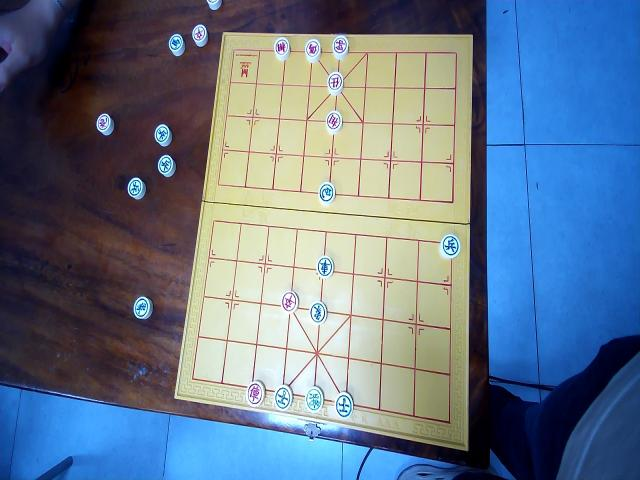piece: (438, 232, 461, 258), (334, 391, 354, 418), (246, 379, 265, 406), (305, 385, 324, 412), (274, 384, 292, 411), (133, 295, 153, 319), (326, 70, 344, 95), (272, 36, 290, 61), (96, 111, 114, 136), (280, 289, 298, 313), (309, 300, 327, 324), (318, 181, 336, 205), (154, 122, 172, 146), (332, 34, 348, 60), (157, 154, 175, 177), (127, 176, 145, 199), (325, 110, 342, 134), (316, 255, 333, 278), (304, 38, 320, 62), (192, 23, 208, 47), (168, 32, 184, 55), (205, 0, 221, 10)
